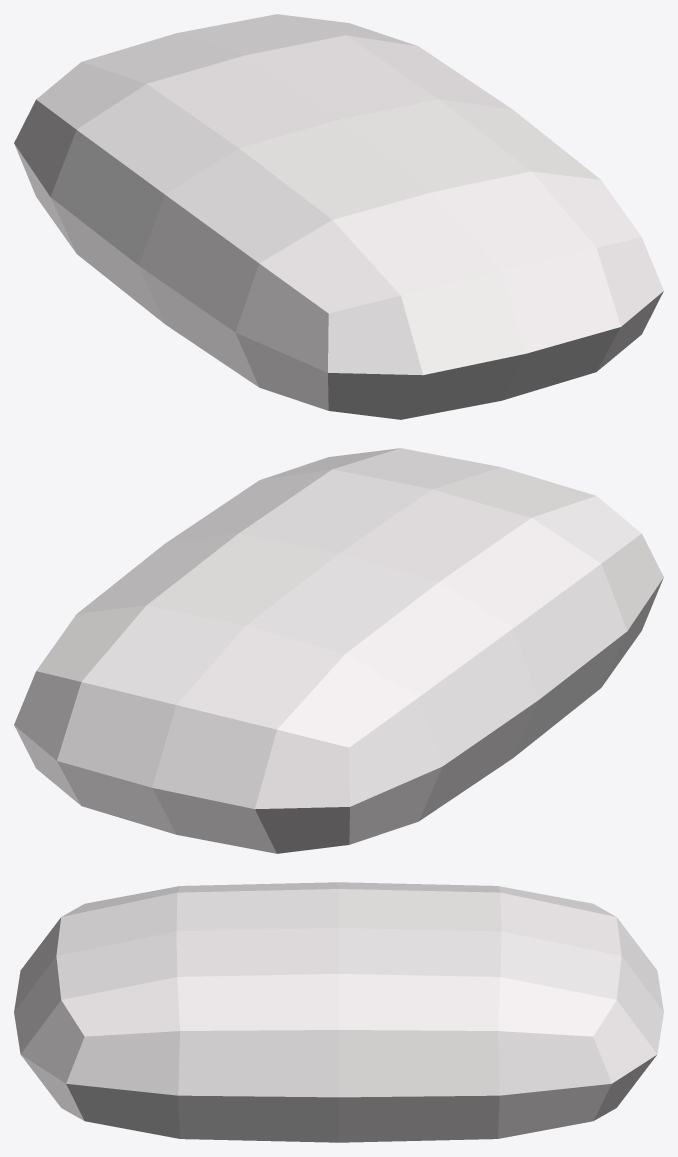
File: SM_Pillow.fbx
The picture shows the model from 3 angles, top to bottom: view 1: azimuth 30°, elevation 25°; view 2: azimuth 150°, elevation 25°; view 3: azimuth 270°, elevation 25°; orthographic projection. The views are drawn at different scales.
Visible parts, largest first — view 1: SM_Pillow; view 2: SM_Pillow; view 3: SM_Pillow.
Boxes of the visible parts, bbox=[...] form: SM_Pillow: bbox=[14, 14, 663, 419]; SM_Pillow: bbox=[14, 448, 663, 853]; SM_Pillow: bbox=[14, 882, 663, 1142].
Size of the model in its own units: 228 by 106 by 368.
